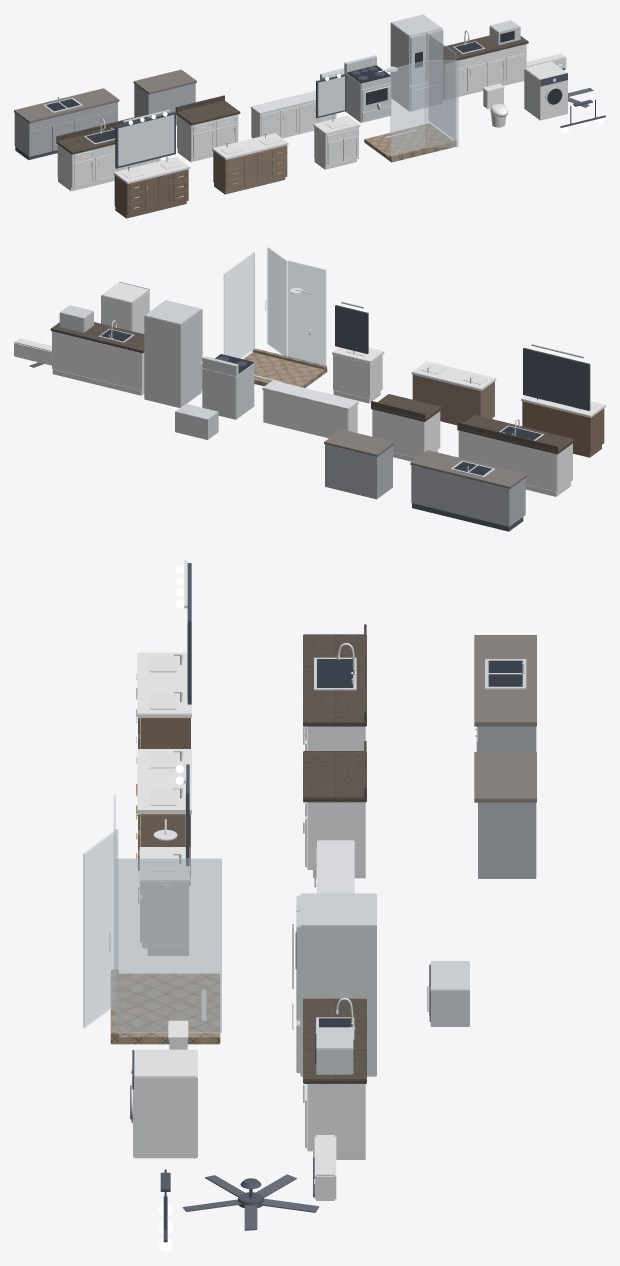
The model's file is rehab_fixtures.glb.
3 views of the same model, one above another, from view 1: azimuth 30°, elevation 25°; view 2: azimuth 150°, elevation 25°; view 3: azimuth 270°, elevation 25° (orthographic). The views are drawn at different scales.
Visible parts, largest first — view 1: SH_glassF, SH_glassD, SH_glassS, FR_body, Vanity_Double_After_mirGl, SH_pan, WS_body, KNA_body, KEA_body, KNA_top, Vanity_Double_After_body, Vanity_Double_AsIs_body (+41 smaller); view 2: FR_body, KNA_body, SH_glassF, KN_body, IK_body, Vanity_Double_After_mirFr, SH_glassS, KEA_body, KU_body, Vanity_Double_AsIs_body, Vanity_Double_After_body, KE_body (+22 smaller); view 3: SH_glassS, FR_body, WS_body, SH_pan, SH_glassD, KNA_top, KEA_body, KN_top, IK_body, IK_top, KE_top, KEA_top (+14 smaller).
Boxes of the visible parts, bbox=[...] form: SH_glassF: bbox=[390, 60, 425, 155]; SH_glassD: bbox=[425, 60, 458, 147]; SH_glassS: bbox=[428, 34, 456, 139]; FR_body: bbox=[390, 14, 442, 111]; Vanity_Double_After_mirGl: bbox=[118, 115, 174, 166]; SH_pan: bbox=[364, 123, 456, 162]; WS_body: bbox=[524, 61, 567, 120]; KNA_body: bbox=[14, 102, 117, 156]; KEA_body: bbox=[134, 83, 195, 125]; KNA_top: bbox=[14, 88, 119, 123]; Vanity_Double_After_body: bbox=[114, 169, 188, 215]; Vanity_Double_AsIs_body: bbox=[213, 145, 287, 191]; FR_body: bbox=[144, 300, 201, 407]; KNA_body: bbox=[411, 465, 525, 526]; SH_glassF: bbox=[287, 260, 326, 366]; KN_body: bbox=[458, 430, 572, 491]; IK_body: bbox=[52, 331, 144, 390]; Vanity_Double_After_mirFr: bbox=[523, 347, 590, 410]; SH_glassS: bbox=[223, 252, 254, 358]; KEA_body: bbox=[325, 444, 392, 499]; KU_body: bbox=[263, 390, 357, 438]; Vanity_Double_AsIs_body: bbox=[412, 374, 494, 422]; Vanity_Double_After_body: bbox=[522, 401, 604, 453]; KE_body: bbox=[372, 409, 440, 457]; SH_glassS: bbox=[113, 858, 221, 1033]; FR_body: bbox=[300, 893, 376, 1076]; WS_body: bbox=[133, 1049, 197, 1158]; SH_pan: bbox=[110, 973, 220, 1044]; SH_glassD: bbox=[83, 829, 118, 1027]; KNA_top: bbox=[474, 635, 536, 726]; KEA_body: bbox=[478, 802, 536, 878]; KN_top: bbox=[303, 634, 366, 726]; IK_body: bbox=[307, 1084, 365, 1151]; IK_top: bbox=[303, 998, 366, 1083]; KE_top: bbox=[303, 751, 366, 802]; KEA_top: bbox=[474, 752, 536, 802].
Bounding box in the file's own units: 41.13 × 9.23 × 15.95.
20 materials, 2 textured.
